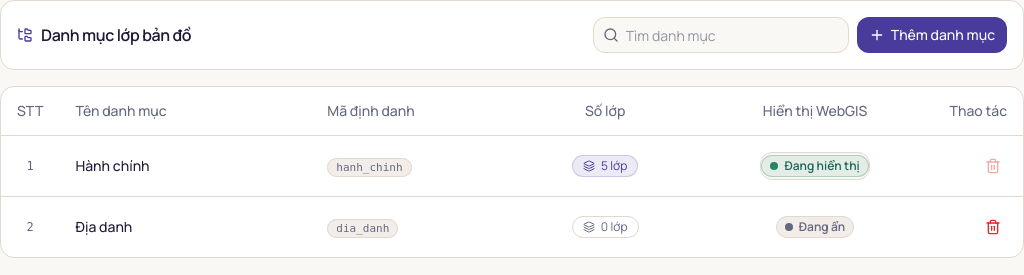
Test: CategoryManagementTab › filters categories by search term
Check: the text "Hành chính" is shown, box x1=76 y1=156 x2=150 y2=176
Type "dia danh" into the field with placeholder "Tìm danh mục" at (721, 35), box x1=593 y1=17 x2=849 y2=53
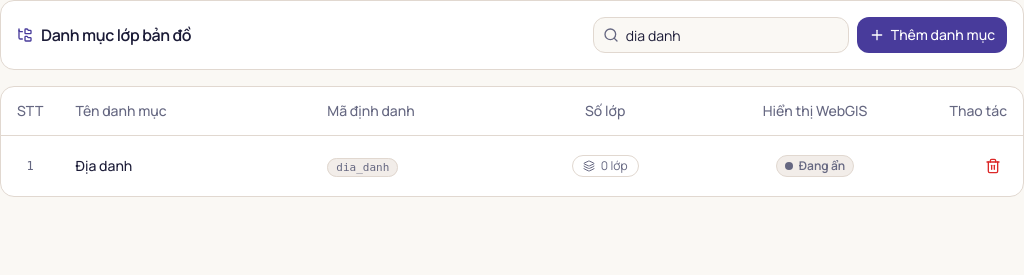
Check: the text "Địa danh" is shown, box x1=76 y1=156 x2=132 y2=176
Check: the text "Hành chính" is gone
